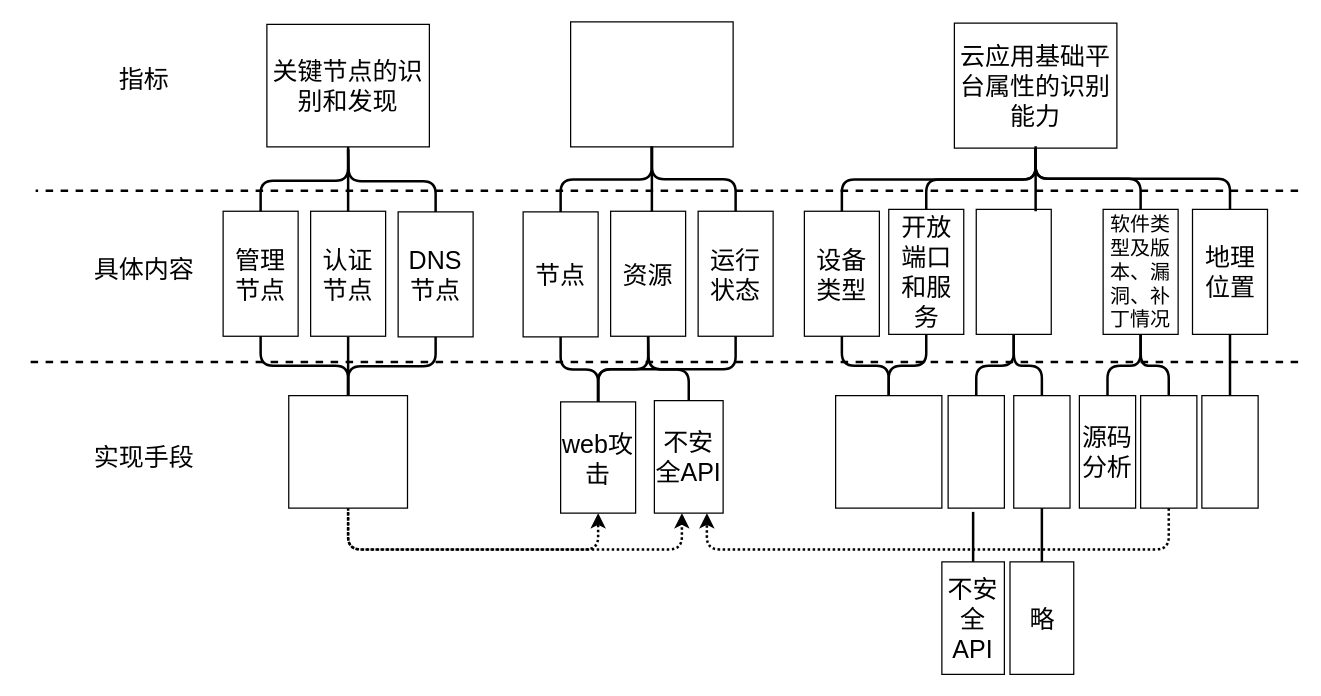
Image size: 1321x696. Some labels were removed from this diagram. Here are the shapes that lost their labels. From the top down, the centre of each, then its label:
(x=651, y=84): 云平台节点资源等属性发现
(x=1013, y=271): 安防策略
(x=348, y=451): 嗅探技术和数据包特征结合
(x=888, y=451): 端口扫描工具、系统工具
(x=975, y=451): 针对虚拟机
(x=1041, y=451): 针对云平台
(x=1168, y=451): 漏洞扫描
(x=1229, y=451): 基于IP的定位技术
